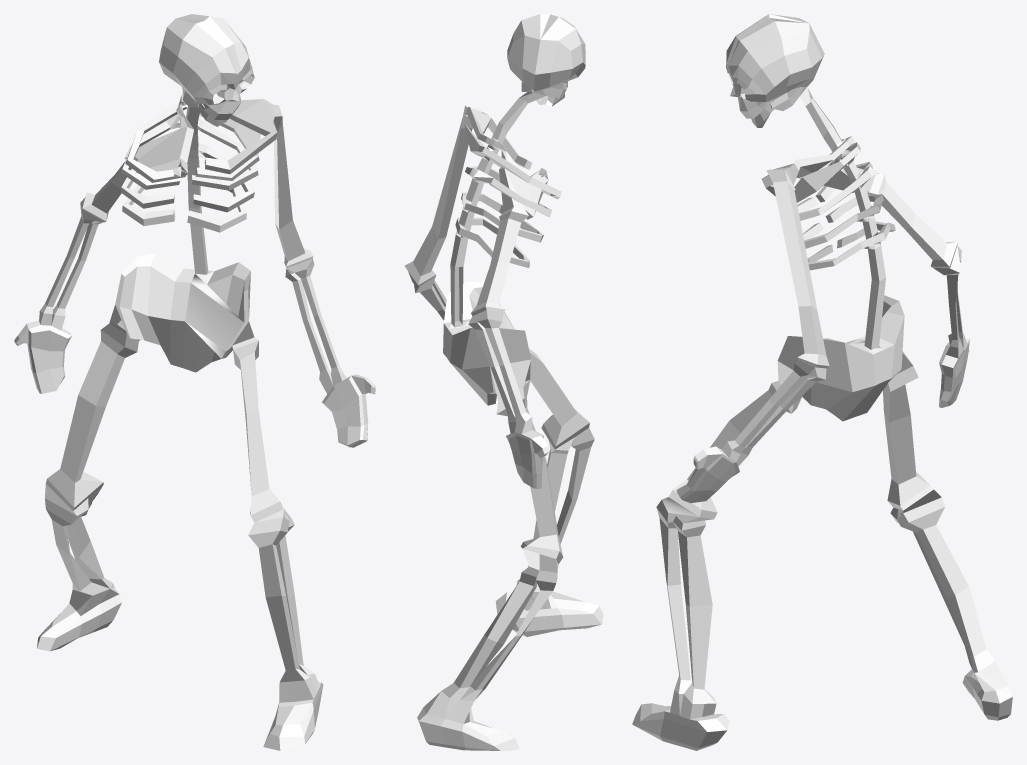
The model's file is SkeletonIdle(11).obj.
3 renders of one model, left to right at view 1: azimuth 30°, elevation 25°; view 2: azimuth 150°, elevation 25°; view 3: azimuth 270°, elevation 25°, orthographic. The views are drawn at different scales.
Visible parts, largest first — view 1: Object002; view 2: Object002; view 3: Object002.
Boxes of the visible parts, x1,y1,x2,y2 form: Object002: [14, 14, 375, 750]; Object002: [404, 14, 603, 750]; Object002: [632, 14, 1012, 750].
Bounding box in the file's own units: 392 × 1123 × 556.
